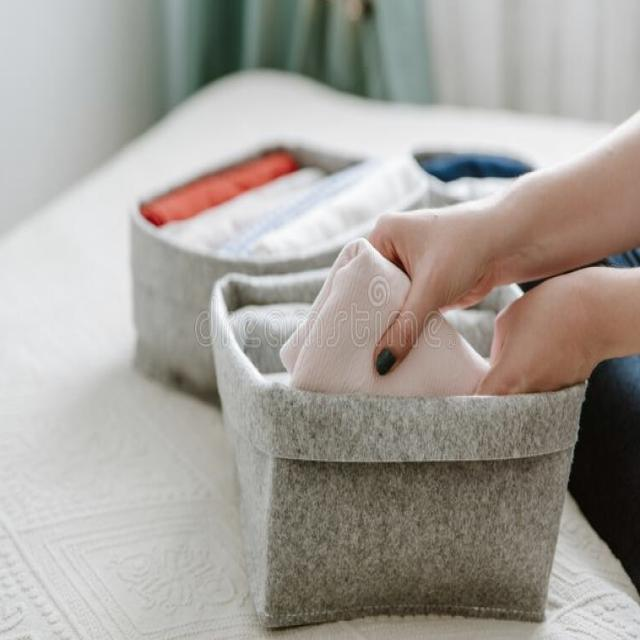clothes: (292, 257, 444, 404), (176, 153, 380, 262)
